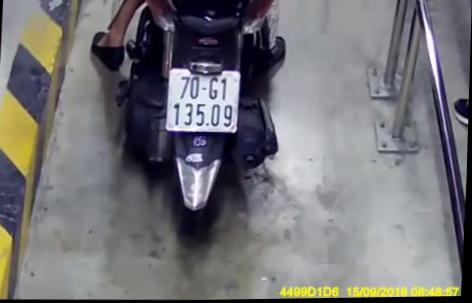LP: (166, 67, 241, 135)
